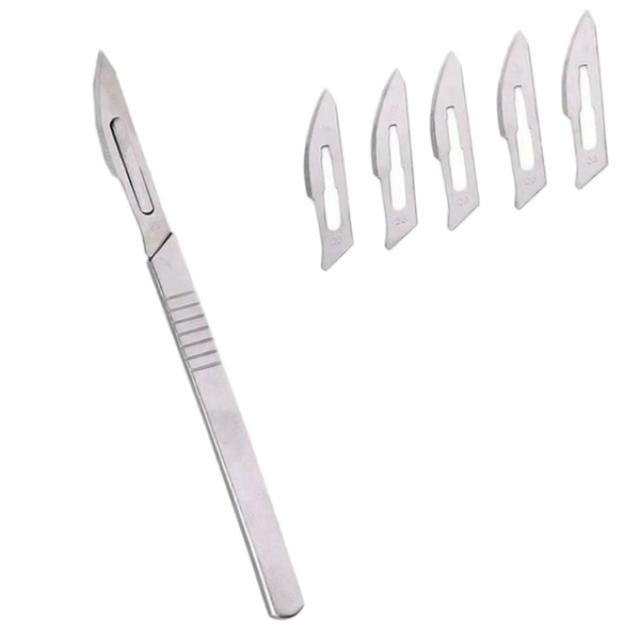Knife handle: (108, 104, 302, 626)
Surgical blade: (78, 48, 184, 246), (372, 70, 432, 253), (429, 49, 486, 240), (494, 30, 554, 210), (564, 10, 622, 194), (302, 80, 354, 272)
